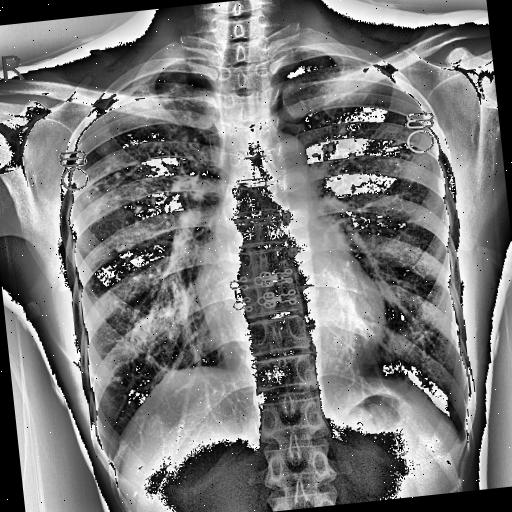11- Pleural thickening: (96, 65, 164, 113), (100, 66, 156, 106), (159, 367, 182, 381), (400, 371, 416, 386)
13- Pulmonary fibrosis: (62, 76, 222, 218), (72, 81, 210, 222), (298, 58, 382, 170), (80, 158, 146, 220), (306, 64, 374, 124), (111, 88, 169, 122), (382, 136, 426, 178), (312, 58, 342, 92)
2- Calcification: (306, 64, 374, 124)
